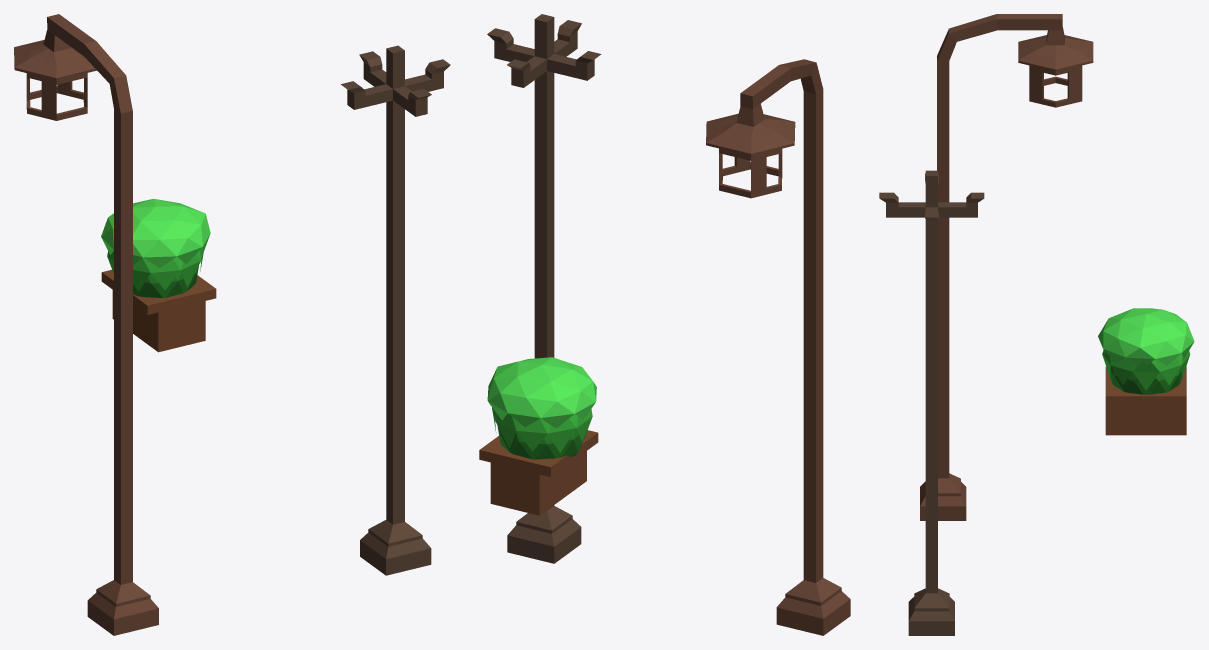
The model's file is street light.fbx.
The picture shows the model from 3 angles, left to right: view 1: azimuth 30°, elevation 25°; view 2: azimuth 150°, elevation 25°; view 3: azimuth 270°, elevation 25°; orthographic projection. The views are drawn at different scales.
Parts seen in each view (by area): view 1: Cube.005, Cube.003, Cube.004; view 2: Cube.005, Cube.004, Cube.003; view 3: Cube.005, Cube.004, Cube.003.
Part boxes in pixels (box(x1,y1,x2,y2)): Cube.005: box(14, 14, 158, 635); Cube.003: box(341, 45, 450, 575); Cube.004: box(101, 198, 216, 352); Cube.005: box(706, 59, 850, 635); Cube.004: box(479, 357, 598, 515); Cube.003: box(487, 14, 601, 563); Cube.005: box(920, 14, 1093, 520); Cube.004: box(1098, 308, 1194, 435); Cube.003: box(879, 170, 984, 635).
Bounding box in the file's own units: 466 × 396 × 683.
